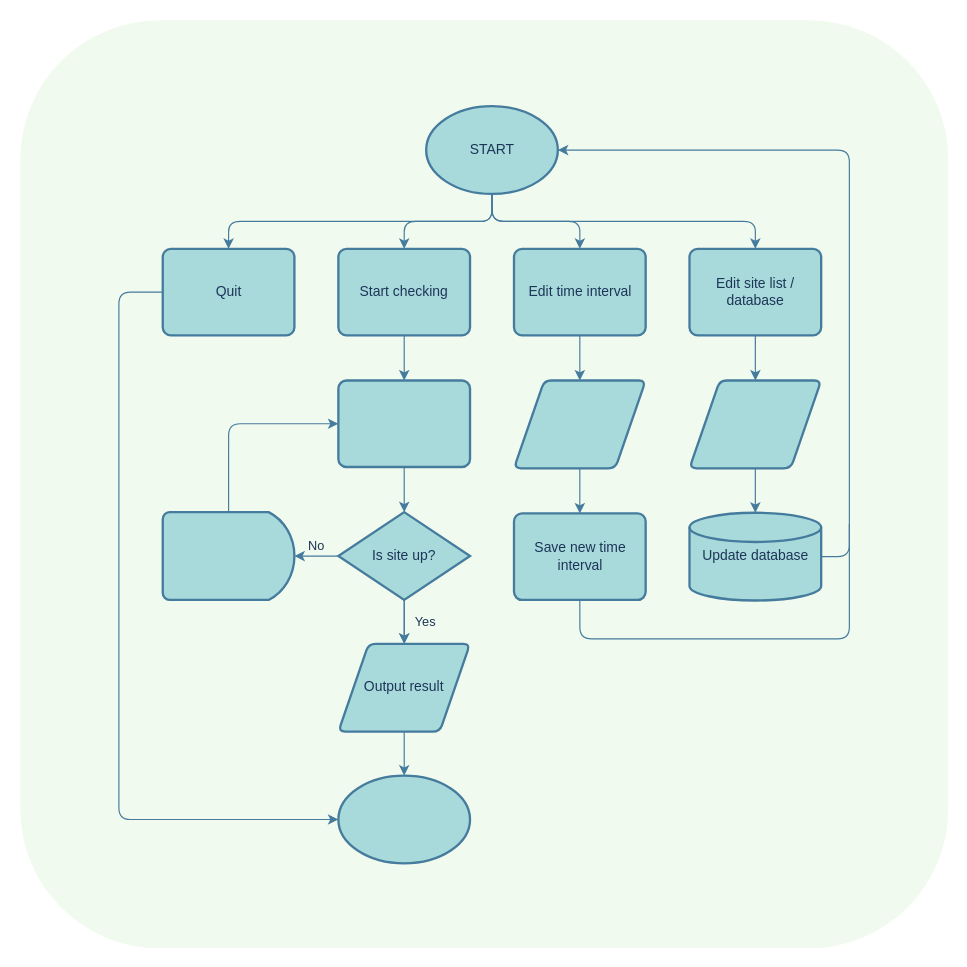
This 967x967 diagram has some shape labels left out. Each missing label, with the box of its shape:
Input database changes: (688, 379, 822, 469)
Input new time interval: (512, 379, 646, 469)
Send status check: (337, 379, 471, 468)
STOP: (337, 774, 471, 864)
Wait time interval: (161, 510, 295, 601)
